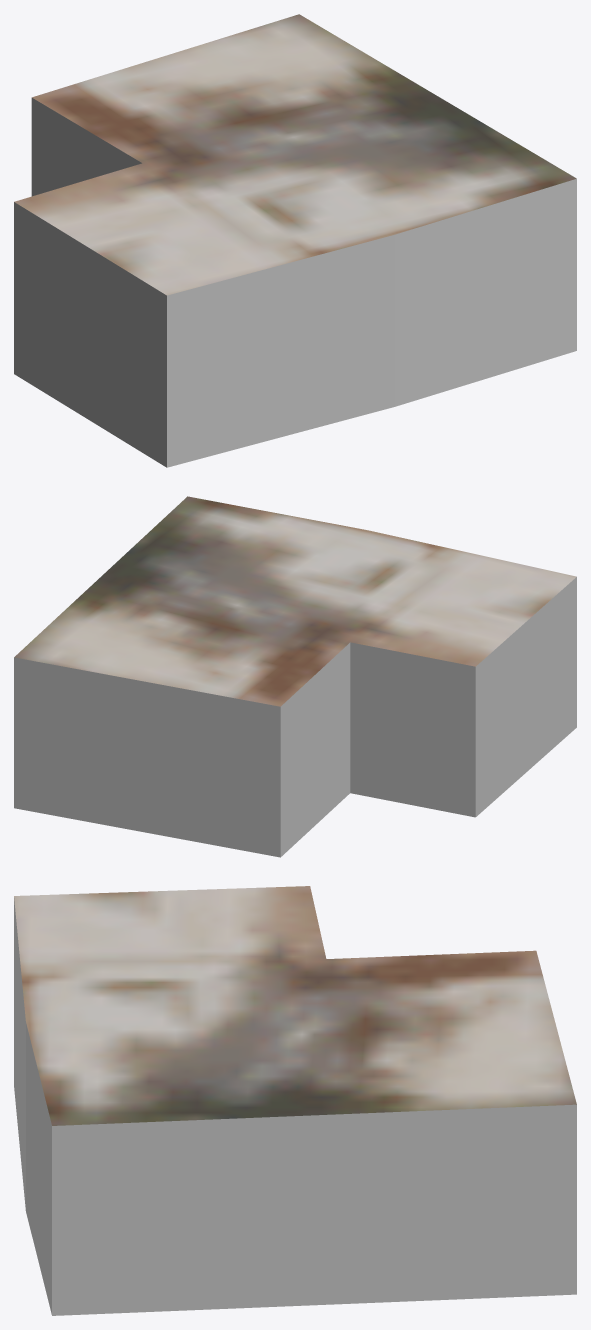
Rendered from DEBW_0010007Txir.gltf.
3 views of the same model, one above another, from view 1: azimuth 30°, elevation 25°; view 2: azimuth 150°, elevation 25°; view 3: azimuth 270°, elevation 25° (orthographic). The views are drawn at different scales.
Visible parts, largest first — view 1: Z_UP; view 2: Z_UP; view 3: Z_UP.
Part boxes in pixels (x1,y1,x2,y2): Z_UP: (14,14,576,467); Z_UP: (14,496,576,857); Z_UP: (14,886,576,1315).
Bounding box in the file's own units: 9.09 × 3.35 × 9.01.
2 materials, 1 textured.
